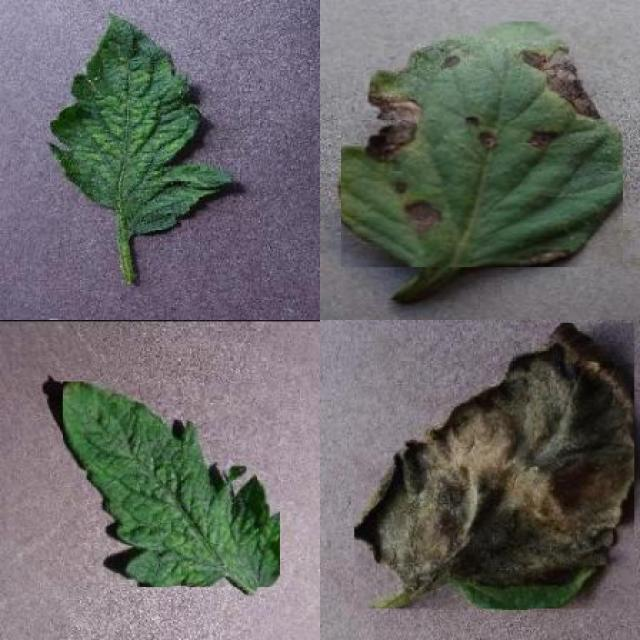Early Blight: (340, 22, 623, 267)
Late Blight: (355, 323, 635, 608)
Mosaic Virus: (63, 382, 280, 588), (46, 11, 236, 236)
